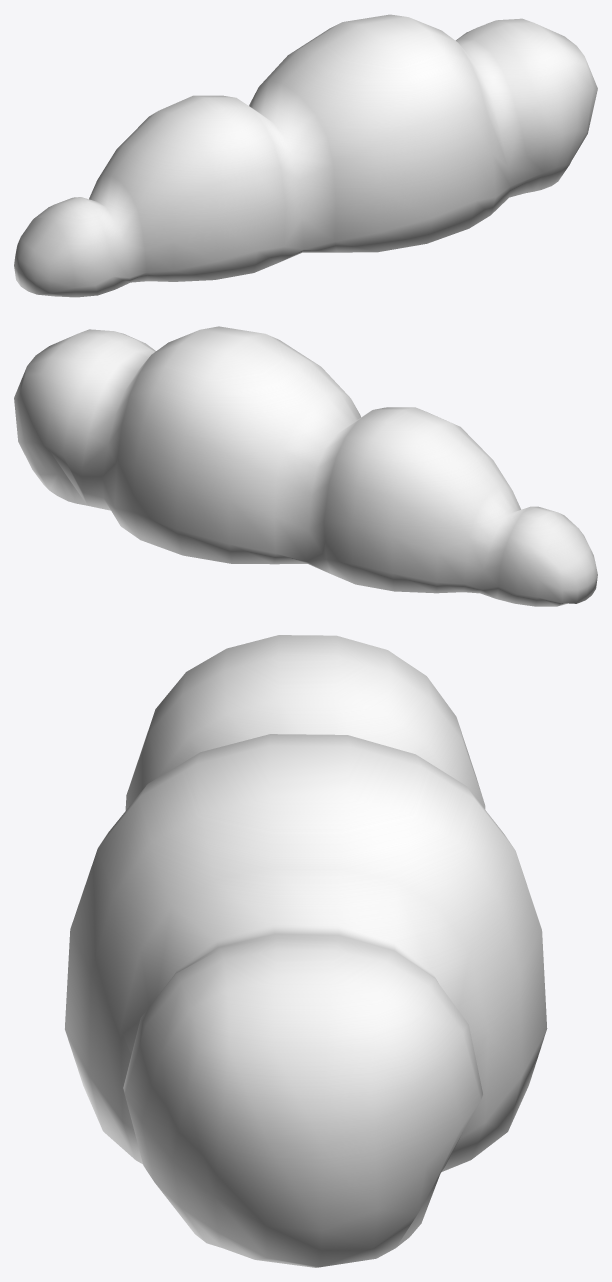
The model's file is Cloud00.fbx.
3 renders of one model, top to bottom at view 1: azimuth 30°, elevation 25°; view 2: azimuth 150°, elevation 25°; view 3: azimuth 270°, elevation 25°, orthographic. The views are drawn at different scales.
Visible parts, largest first — view 1: Cloud00; view 2: Cloud00; view 3: Cloud00.
Part boxes in pixels (x1=…): Cloud00: x1=14, y1=14, x2=597, y2=297; Cloud00: x1=14, y1=326, x2=597, y2=606; Cloud00: x1=65, y1=635, x2=547, y2=1267.
Size of the model in its own units: 0.6241 by 0.1793 by 0.2306.
